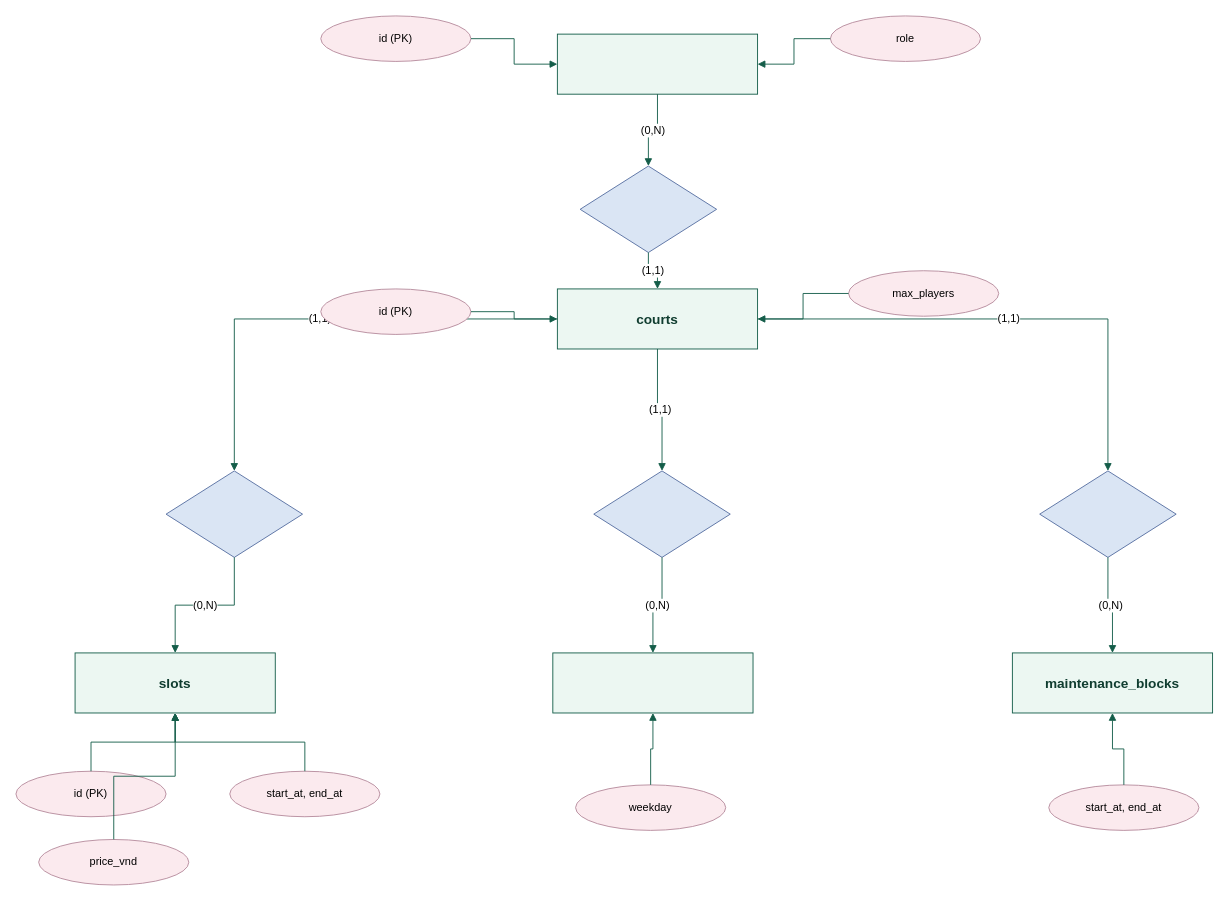
This 1229x901 diagram has some shape labels left out. Each missing label, with the box of its shape:
has block: (1039, 470, 1176, 557)
opens during: (593, 470, 730, 557)
operating_hours: (552, 652, 753, 713)
owns: (579, 165, 717, 253)
publishes: (165, 470, 303, 557)
users: (556, 33, 758, 94)
